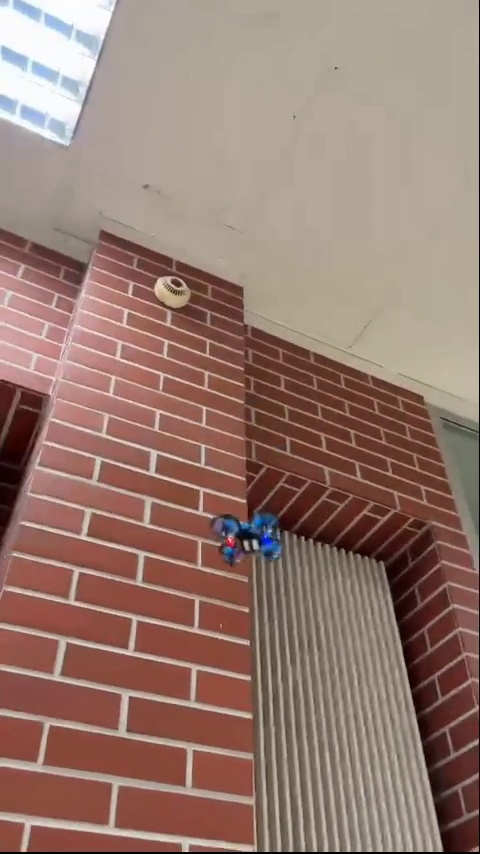drone: (215, 514, 283, 559)
